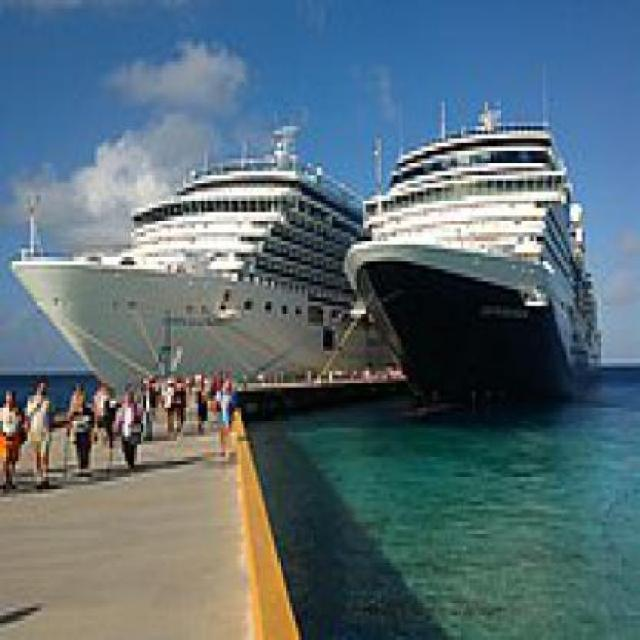cruise: (330, 83, 635, 446)
